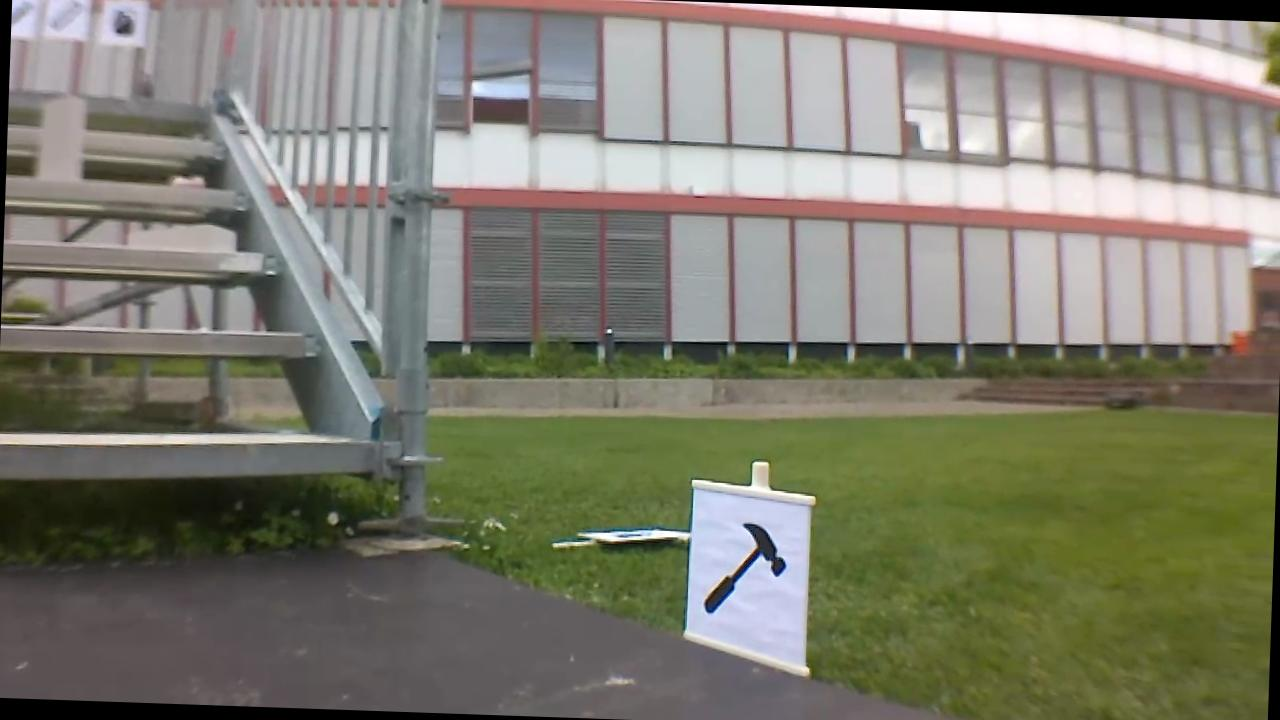brick: (38, 93, 80, 182), (128, 221, 234, 252)
bucket: (104, 1, 141, 40)
hammer: (693, 508, 791, 627)
